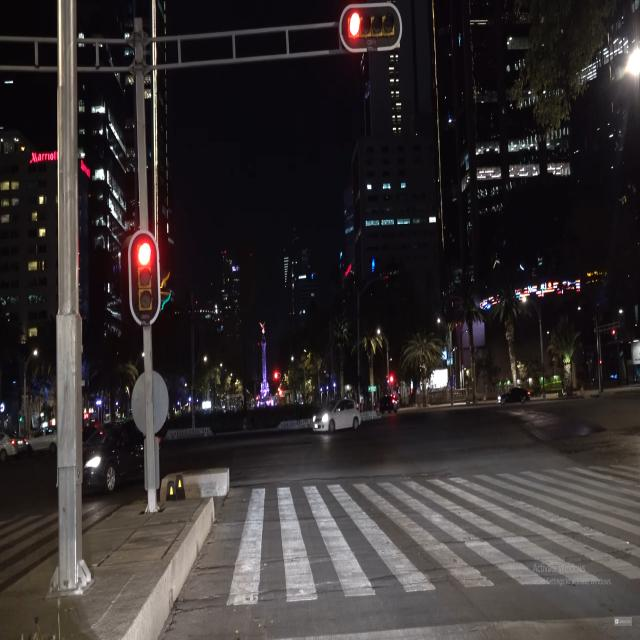headlights: (310, 410, 333, 425)
